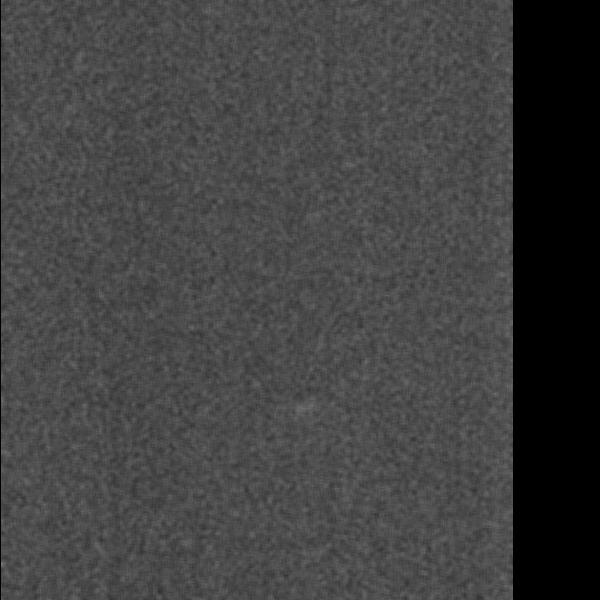spark: (270, 431, 314, 493), (381, 374, 416, 411), (104, 548, 136, 587)
